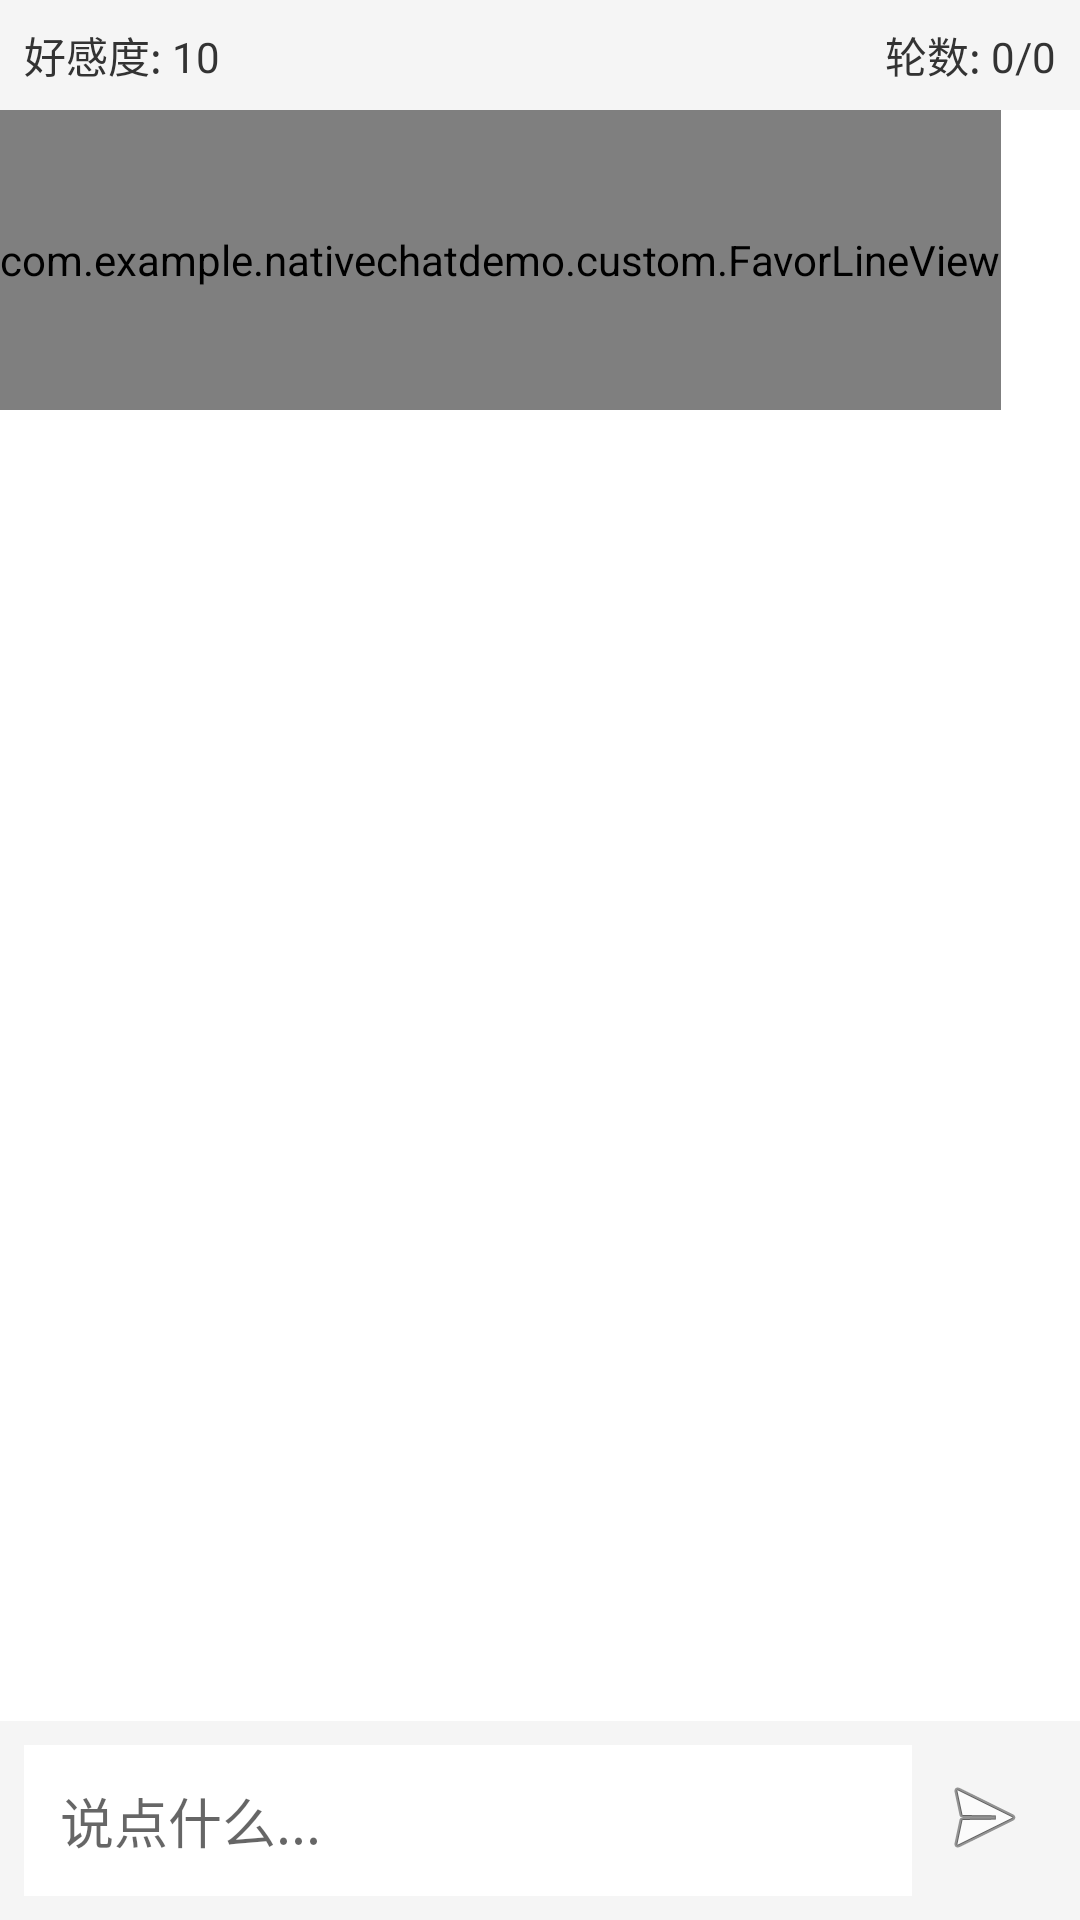

Named icons in this screenshot (1080px×1920px) and their bounding boxes, region(x1, y1, x2, y2):
发送: region(954, 1787, 1016, 1848)
